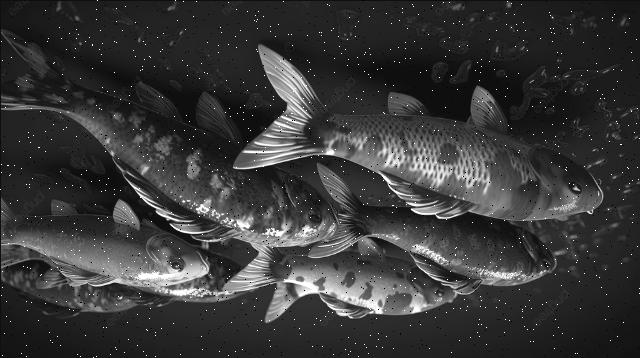Mulut: (574, 156, 618, 222), (311, 192, 351, 250), (532, 243, 568, 290), (190, 246, 222, 286)
Sirip Anal: (126, 69, 192, 139), (374, 84, 434, 130), (37, 187, 87, 227)
Sirip Ekor: (228, 42, 329, 169), (0, 8, 81, 148), (304, 160, 376, 272), (219, 244, 283, 289)
Sirip Perut: (188, 80, 244, 156), (462, 76, 520, 148), (106, 190, 146, 242)
Sirip Punggung: (94, 139, 246, 263), (376, 159, 486, 235), (402, 237, 486, 301), (44, 244, 126, 298), (314, 281, 384, 327)
